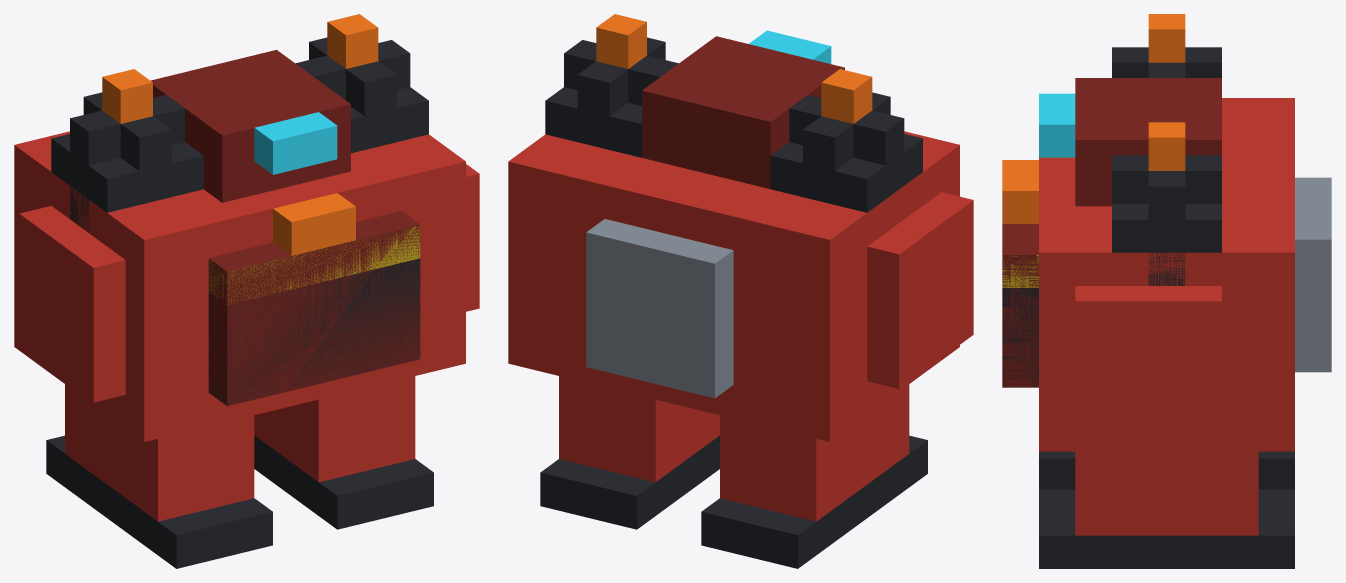
File: mech_bomber.glb
3 renders of one model, left to right at view 1: azimuth 30°, elevation 25°; view 2: azimuth 150°, elevation 25°; view 3: azimuth 270°, elevation 25°, orthographic.
Parts seen in each view (by area): view 1: Body mesh, Belly mesh, Bomb mesh, Bay mesh, Feet mesh, Arm L mesh, Head mesh, Leg L mesh, Leg R mesh, Fuse mesh, Visor mesh, Core mesh (+1 smaller); view 2: Body mesh, Tank mesh, Bomb mesh, Head mesh, Feet mesh, Arm L mesh, Leg L mesh, Leg R mesh, Fuse mesh, Visor mesh; view 3: Body mesh, Arm R mesh, Leg R mesh, Feet mesh, Bomb mesh, Head mesh, Tank mesh, Belly mesh, Fuse mesh, Bay mesh, Visor mesh, Core mesh.
Part boxes in pixels (x1,y1,x2,y2): Body mesh: (14, 131, 465, 441); Belly mesh: (208, 211, 420, 406); Bomb mesh: (51, 37, 428, 232); Bay mesh: (208, 225, 420, 404); Feet mesh: (46, 435, 433, 568); Arm L mesh: (19, 206, 125, 402); Head mesh: (150, 50, 350, 202); Leg L mesh: (65, 384, 254, 521); Leg R mesh: (254, 376, 415, 482); Fuse mesh: (102, 14, 378, 123); Visor mesh: (254, 112, 337, 174); Core mesh: (273, 193, 355, 255); Body mesh: (508, 131, 959, 441); Tank mesh: (586, 219, 733, 398); Bomb mesh: (545, 37, 922, 212); Head mesh: (642, 36, 844, 189); Feet mesh: (540, 435, 927, 568); Arm L mesh: (867, 192, 973, 388); Leg L mesh: (720, 384, 909, 521); Leg R mesh: (559, 376, 719, 482); Fuse mesh: (596, 14, 872, 123); Visor mesh: (749, 30, 831, 63); Body mesh: (1039, 98, 1294, 451); Arm R mesh: (1075, 286, 1221, 433); Leg R mesh: (1075, 451, 1258, 535); Feet mesh: (1039, 451, 1294, 568); Bomb mesh: (1112, 47, 1221, 285); Head mesh: (1075, 78, 1221, 206); Tank mesh: (1295, 177, 1331, 372); Belly mesh: (1002, 224, 1038, 387); Fuse mesh: (1148, 14, 1185, 170); Bay mesh: (1002, 255, 1038, 387); Visor mesh: (1039, 93, 1075, 157); Core mesh: (1002, 160, 1038, 223).
Size of the model in its own units: 12 by 13 by 9.
1 material, 1 textured.
